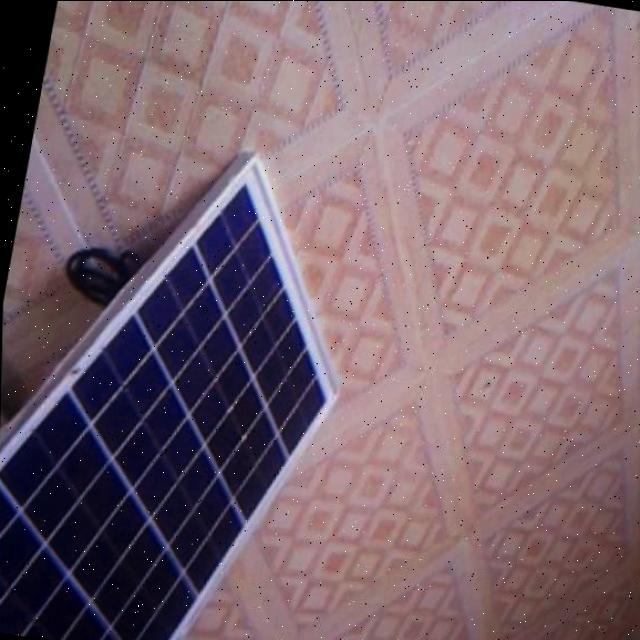Normal Solar Panel: (0, 121, 374, 640)
